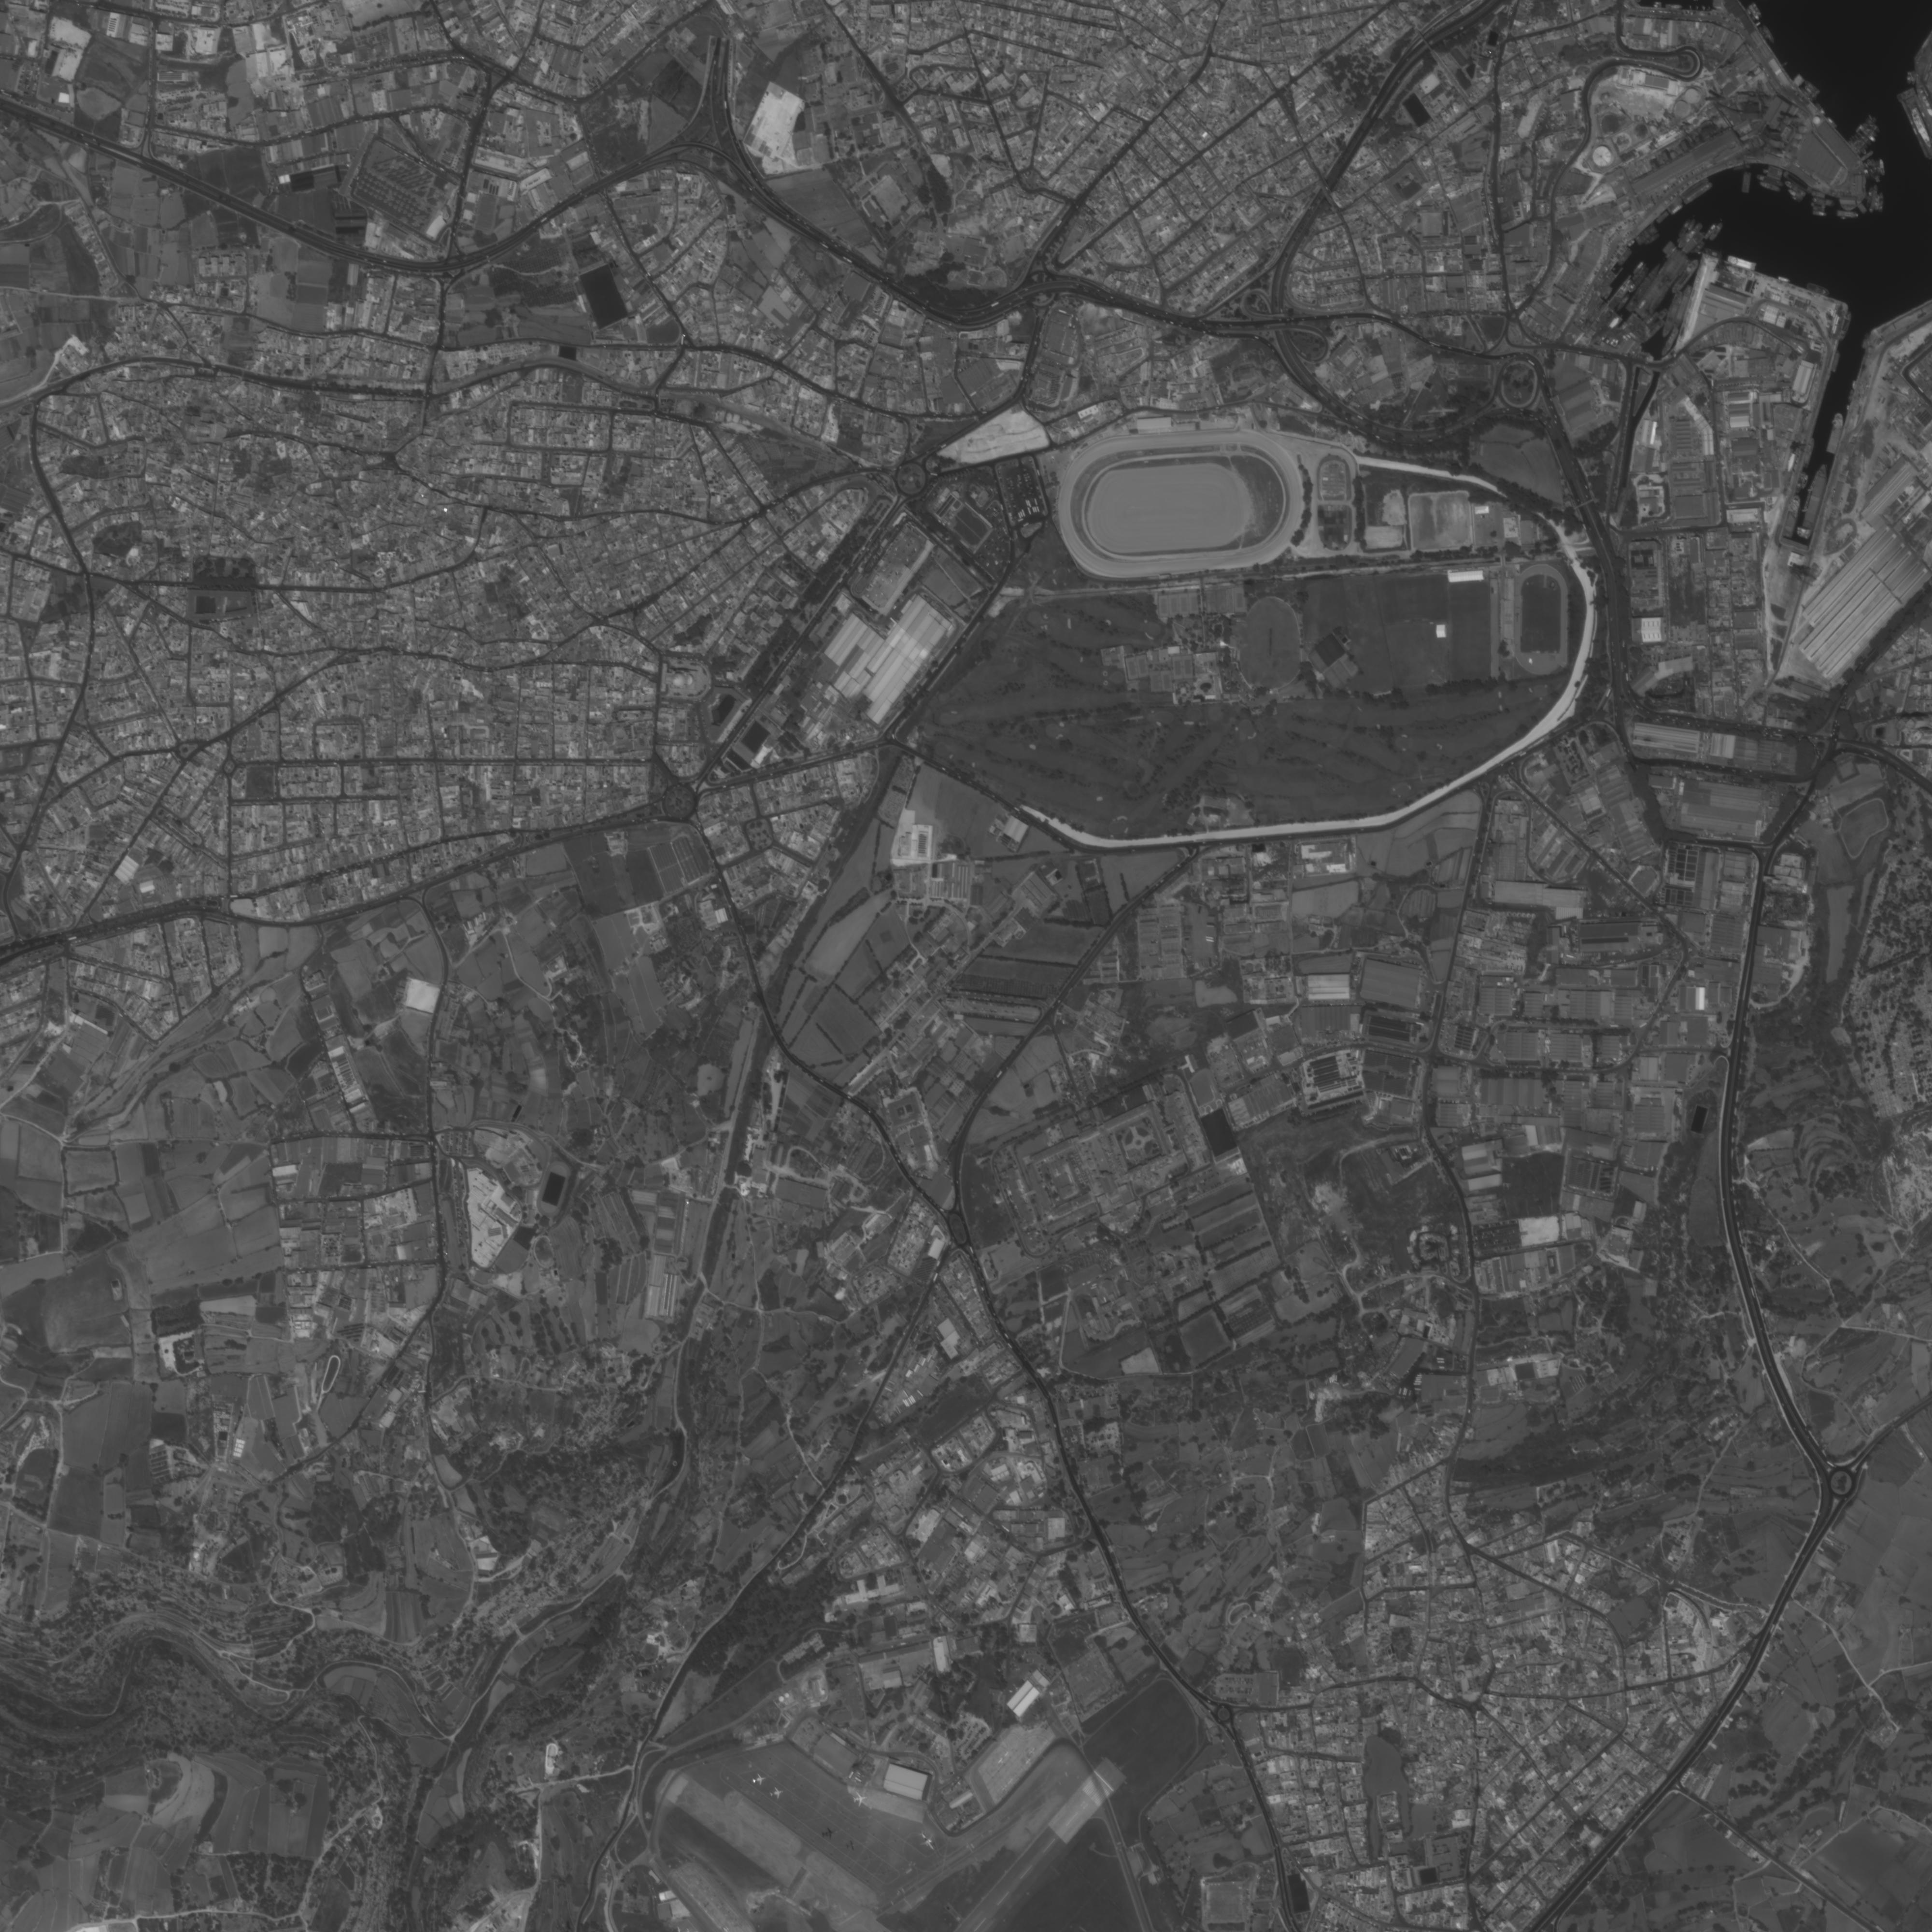plane: (911, 1824, 945, 1858), (849, 1789, 870, 1810), (764, 1785, 787, 1805), (748, 1771, 770, 1790), (817, 1826, 837, 1845), (844, 1838, 860, 1854)
ship: (1794, 460, 1833, 543), (1624, 260, 1665, 315), (1668, 255, 1704, 295), (1660, 290, 1686, 340), (1824, 410, 1849, 456), (1782, 494, 1805, 540), (1674, 283, 1695, 331), (1677, 219, 1707, 251), (1683, 180, 1714, 207), (1683, 230, 1711, 257), (1660, 327, 1683, 357), (1805, 280, 1833, 301), (1801, 437, 1819, 471), (1783, 179, 1810, 200), (1847, 134, 1870, 156), (1707, 219, 1727, 244), (1755, 172, 1785, 188), (1675, 216, 1695, 239), (1792, 469, 1808, 495), (1760, 23, 1778, 46), (1757, 179, 1782, 195), (1803, 78, 1822, 97), (1858, 124, 1877, 143), (1835, 209, 1861, 221), (1868, 184, 1879, 214), (1865, 117, 1882, 134), (1812, 196, 1836, 207), (1810, 209, 1829, 219), (1877, 191, 1886, 214), (1877, 159, 1886, 175), (1810, 203, 1828, 211)
